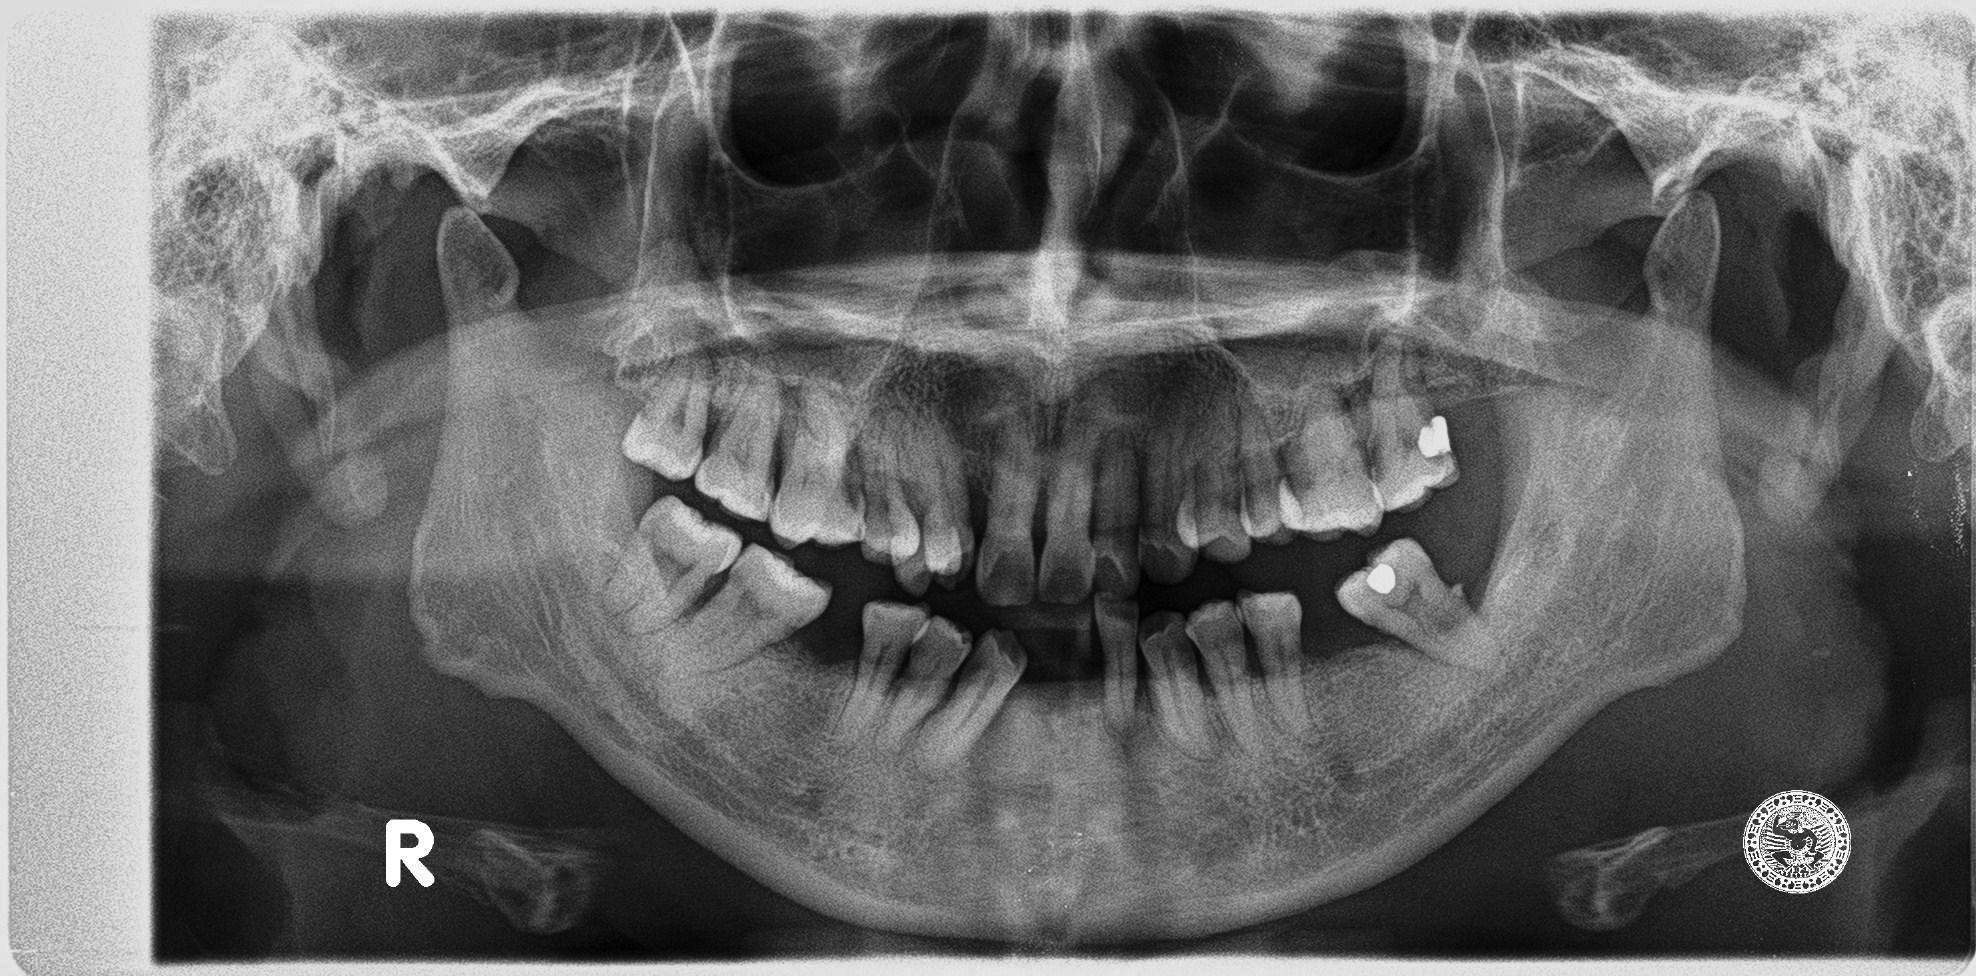Individual Tooth: (1336, 538, 1498, 671), (599, 496, 744, 636), (769, 366, 863, 547), (1274, 388, 1385, 541), (911, 630, 1025, 768), (1358, 351, 1456, 511), (836, 601, 928, 757), (875, 617, 972, 762), (904, 395, 974, 594), (975, 401, 1042, 607), (1236, 591, 1318, 753), (696, 381, 784, 521), (621, 358, 716, 480), (1185, 600, 1260, 753), (883, 409, 939, 598), (1236, 368, 1295, 542), (1176, 429, 1251, 562), (1140, 612, 1210, 753), (1089, 431, 1144, 601), (857, 415, 920, 564), (1139, 427, 1198, 583), (1038, 445, 1095, 604), (1093, 591, 1138, 741)
